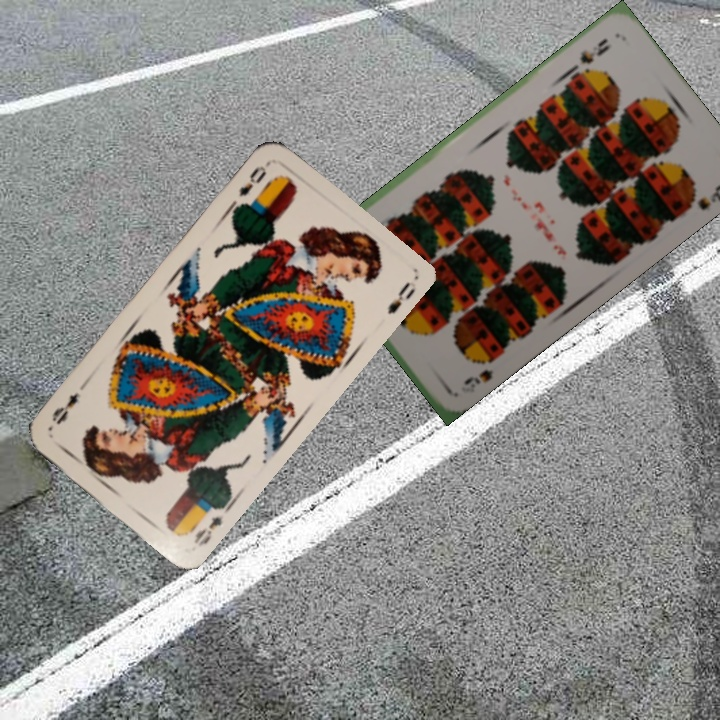EO: (186, 501, 232, 549), (234, 161, 269, 200)
S9: (568, 33, 612, 76), (459, 350, 500, 388)
